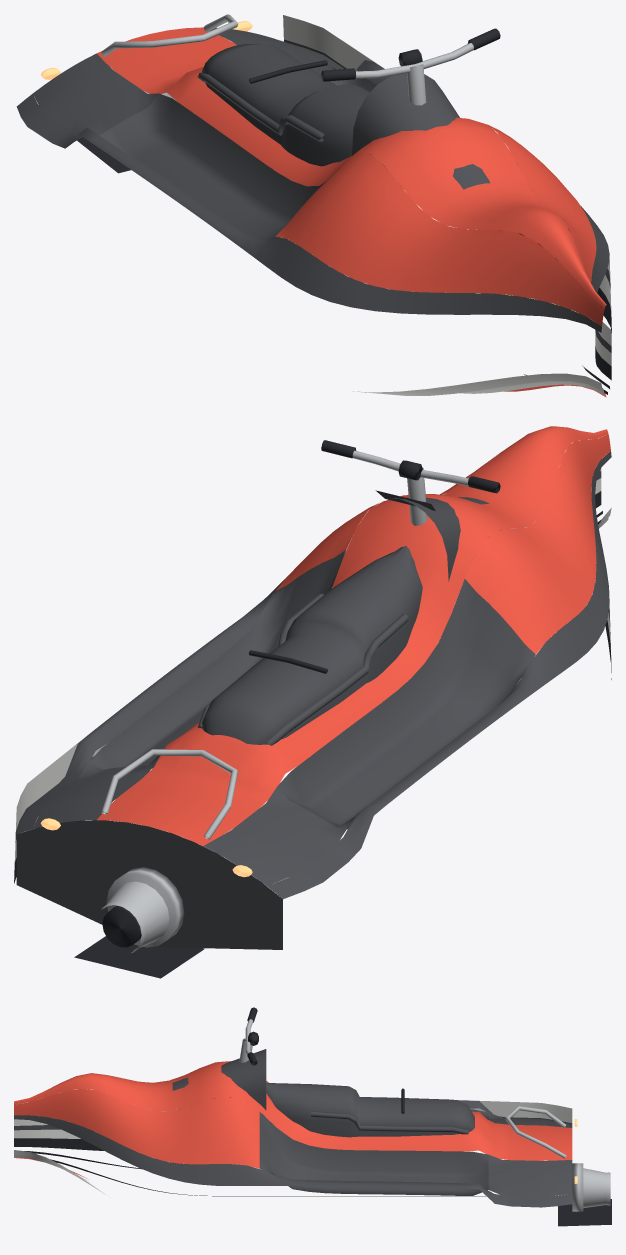
The model's file is jetski-sit-scoop.glb.
3 renders of one model, top to bottom at view 1: azimuth 30°, elevation 25°; view 2: azimuth 150°, elevation 25°; view 3: azimuth 270°, elevation 25°, orthographic. The views are drawn at different scales.
Parts seen in each view (by area): view 1: Hull, Bars; view 2: Hull, Bars; view 3: Hull, Bars.
Part boxes in pixels (box(x1,y1,x2,y2)): Hull: box(16, 14, 611, 397); Bars: box(321, 28, 500, 105); Hull: box(14, 426, 611, 978); Bars: box(321, 440, 500, 525); Hull: box(14, 1049, 611, 1226); Bars: box(239, 1007, 258, 1065).
Size of the model in its own units: 1.18 by 1.1 by 3.32.
